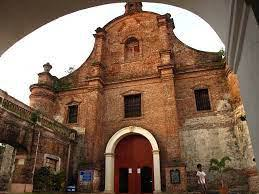Environmental Damage: (53, 77, 71, 89)
Sta. Maria Church: (32, 5, 233, 194)
Unfinished Paint: (180, 114, 257, 172)
